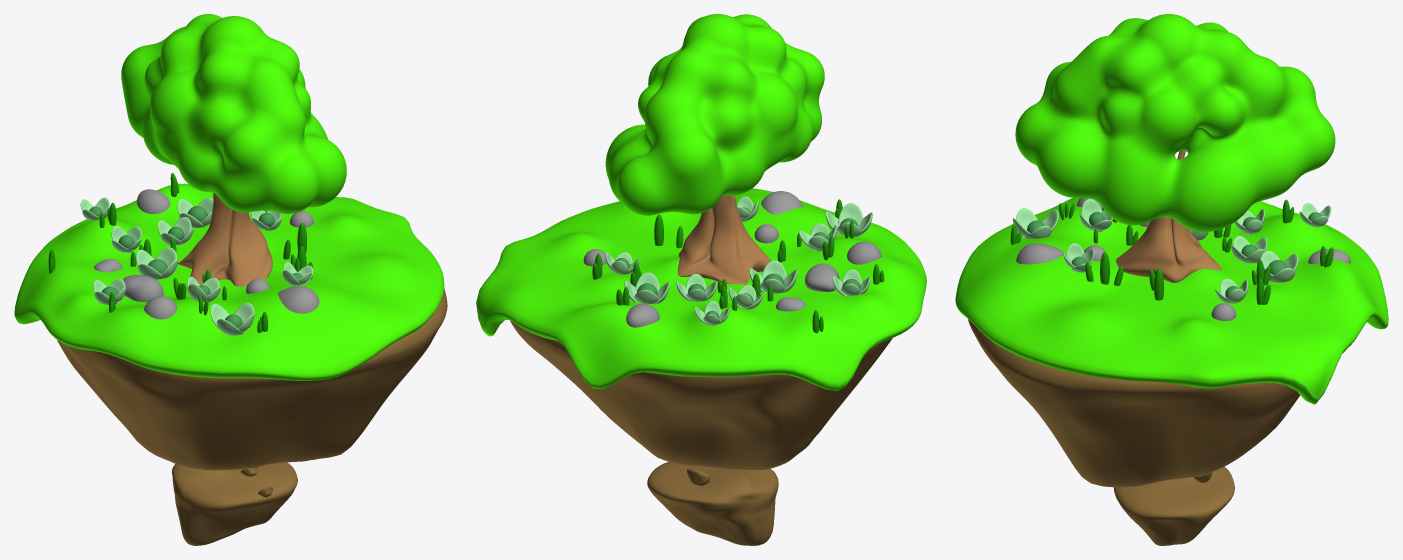
The model's file is for website sunny.glb.
3 views of the same model, side by side, from view 1: azimuth 30°, elevation 25°; view 2: azimuth 150°, elevation 25°; view 3: azimuth 270°, elevation 25° (orthographic).
Parts seen in each view (by area): view 1: platform, tree, Sphere.088, stone, grass; view 2: platform, tree, Sphere.088, stone, grass; view 3: platform, tree, Sphere.088, grass, stone.
Part boxes in pixels (<box>): platform: <box>14,183,447,545</box>; tree: <box>121,14,346,286</box>; Sphere.088: <box>80,197,313,335</box>; stone: <box>94,189,319,319</box>; grass: <box>48,173,312,332</box>; platform: <box>476,188,926,545</box>; tree: <box>605,14,824,284</box>; Sphere.088: <box>605,196,872,325</box>; stone: <box>583,191,881,327</box>; grass: <box>592,199,884,333</box>; platform: <box>955,198,1388,545</box>; tree: <box>1015,14,1335,282</box>; Sphere.088: <box>1013,199,1331,303</box>; grass: <box>1010,199,1333,304</box>; stone: <box>1016,198,1350,321</box>.
Size of the model in its own units: 16.52 by 21.45 by 16.04.
